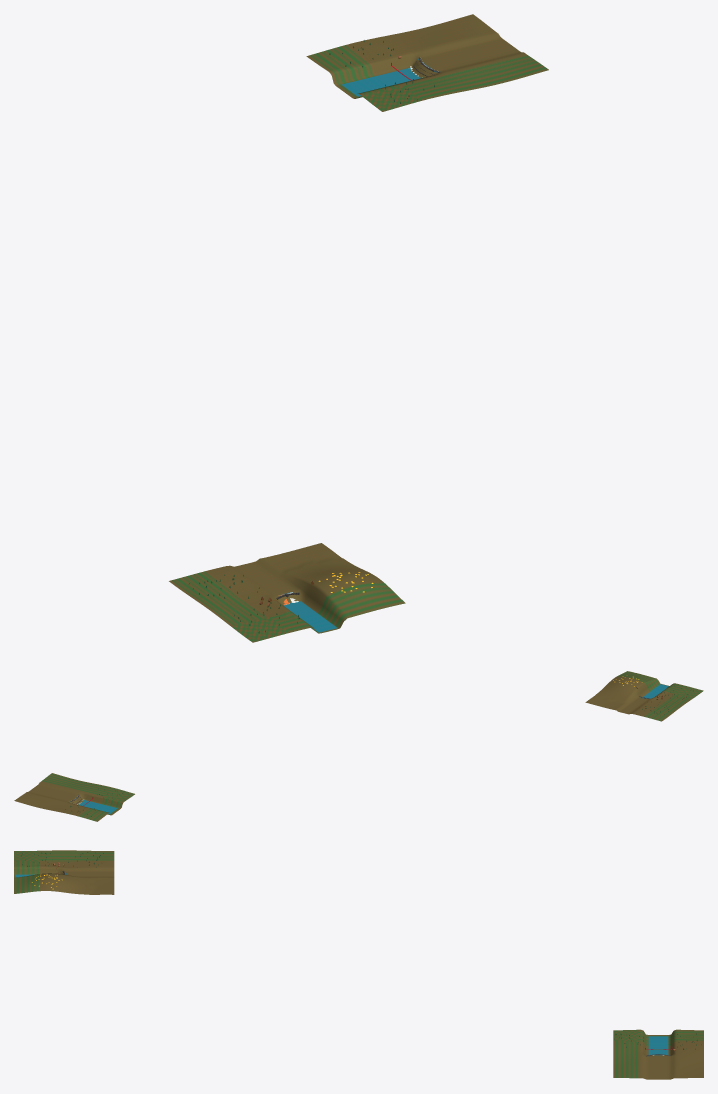
Rendered from ring3_w2_lien_khuong_and_gougah_waterfalls.glb.
The picture shows the model from 3 angles, top to bottom: view 1: azimuth 30°, elevation 25°; view 2: azimuth 150°, elevation 25°; view 3: azimuth 270°, elevation 25°; orthographic projection. The views are drawn at different scales.
Parts seen in each view (by area): view 1: Terrain_Gougah_Waterfall_Fault_And_RChai_Mountain, Terrain_LienKhuong_Waterfall_Canyon, Water_Lower_Plunge_Pools_Blend85; view 2: Terrain_Gougah_Waterfall_Fault_And_RChai_Mountain, Terrain_LienKhuong_Waterfall_Canyon, Water_Lower_Plunge_Pools_Blend85; view 3: Terrain_Gougah_Waterfall_Fault_And_RChai_Mountain, Terrain_LienKhuong_Waterfall_Canyon, Water_Lower_Plunge_Pools_Blend85.
Part boxes in pixels (x1,y1,x2,y2): Terrain_Gougah_Waterfall_Fault_And_RChai_Mountain: [169, 543, 405, 642]; Terrain_LienKhuong_Waterfall_Canyon: [306, 14, 548, 111]; Water_Lower_Plunge_Pools_Blend85: [283, 67, 420, 632]; Terrain_Gougah_Waterfall_Fault_And_RChai_Mountain: [585, 671, 703, 721]; Terrain_LienKhuong_Waterfall_Canyon: [14, 773, 134, 821]; Water_Lower_Plunge_Pools_Blend85: [78, 684, 668, 814]; Terrain_Gougah_Waterfall_Fault_And_RChai_Mountain: [14, 850, 114, 894]; Terrain_LienKhuong_Waterfall_Canyon: [613, 1029, 703, 1079]; Water_Lower_Plunge_Pools_Blend85: [15, 874, 668, 1054].
Size of the model in its own units: 4601 by 113 by 5776.
Materials: 14 (2 with a texture image).
